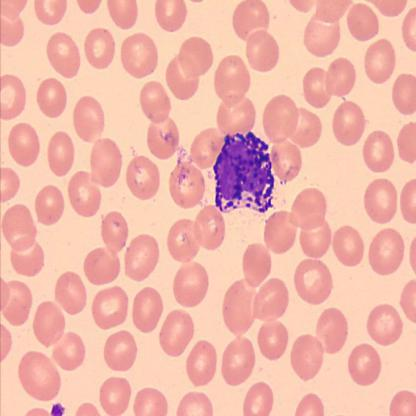Basophil: (211, 128, 277, 215)
